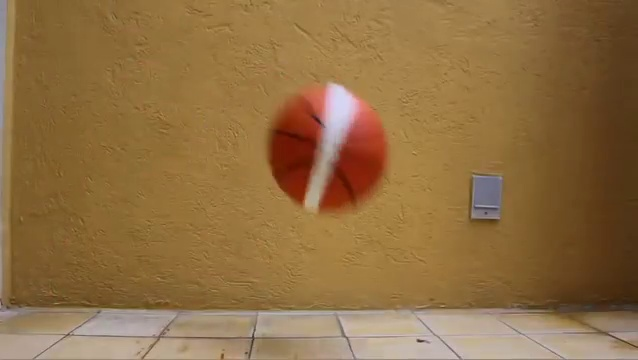ball: (269, 80, 387, 213)
